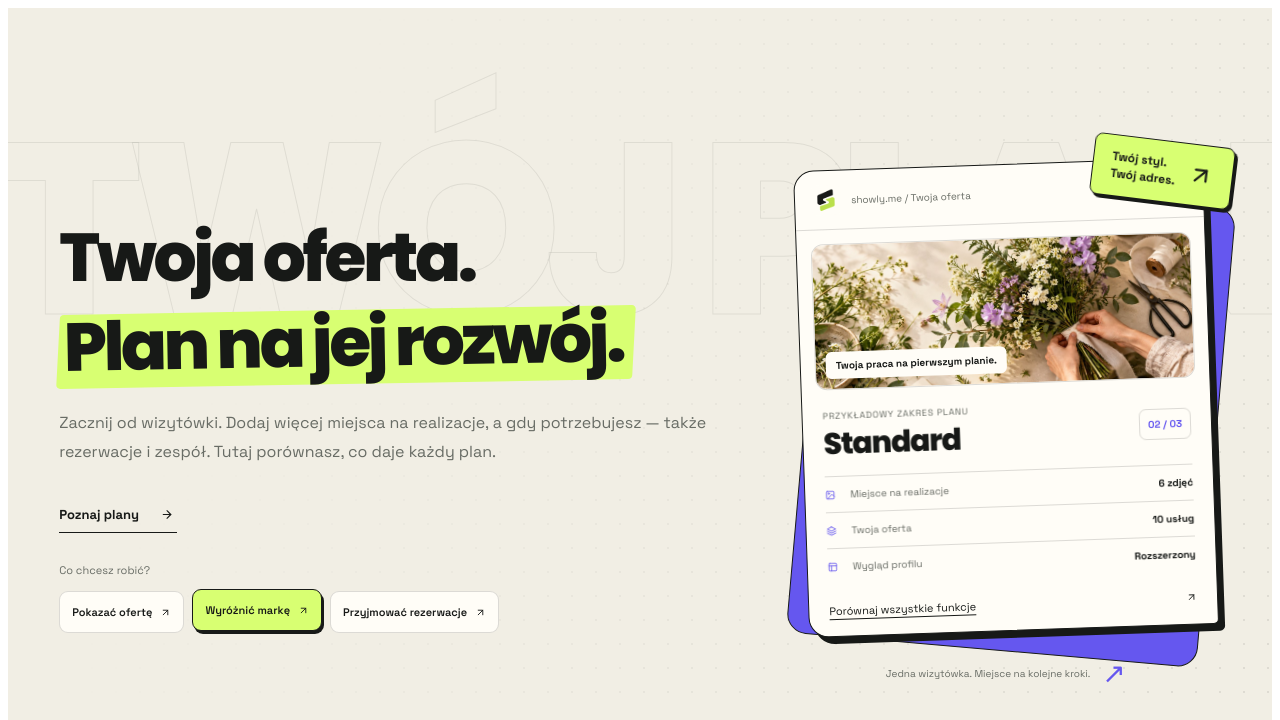
Test case: choosing a need updates the preview and matching card without changing prices
Click the button "Przyjmować rezerwacje": [414, 612] box [330,591,499,633]
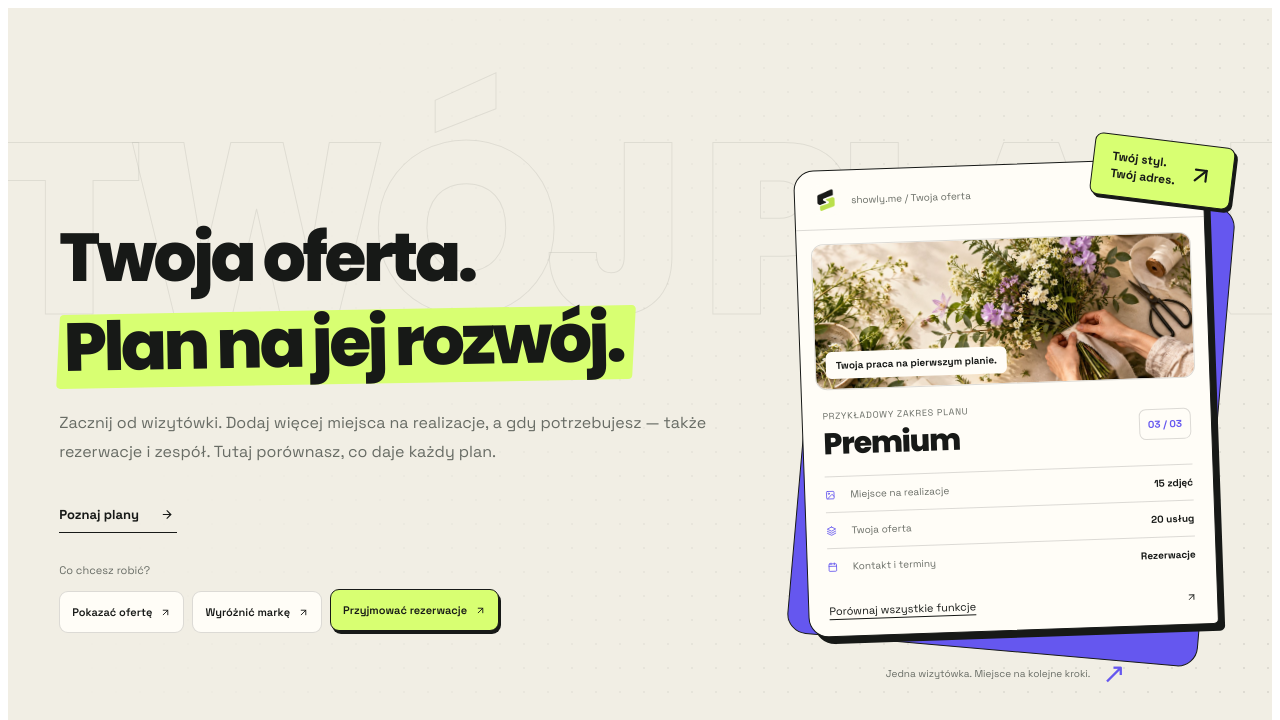
Check: the text "15 zdjęć" is shown, box [1154,476,1193,490]
Click the button "Pokazać ofertę": [122, 612] box [59,591,184,633]
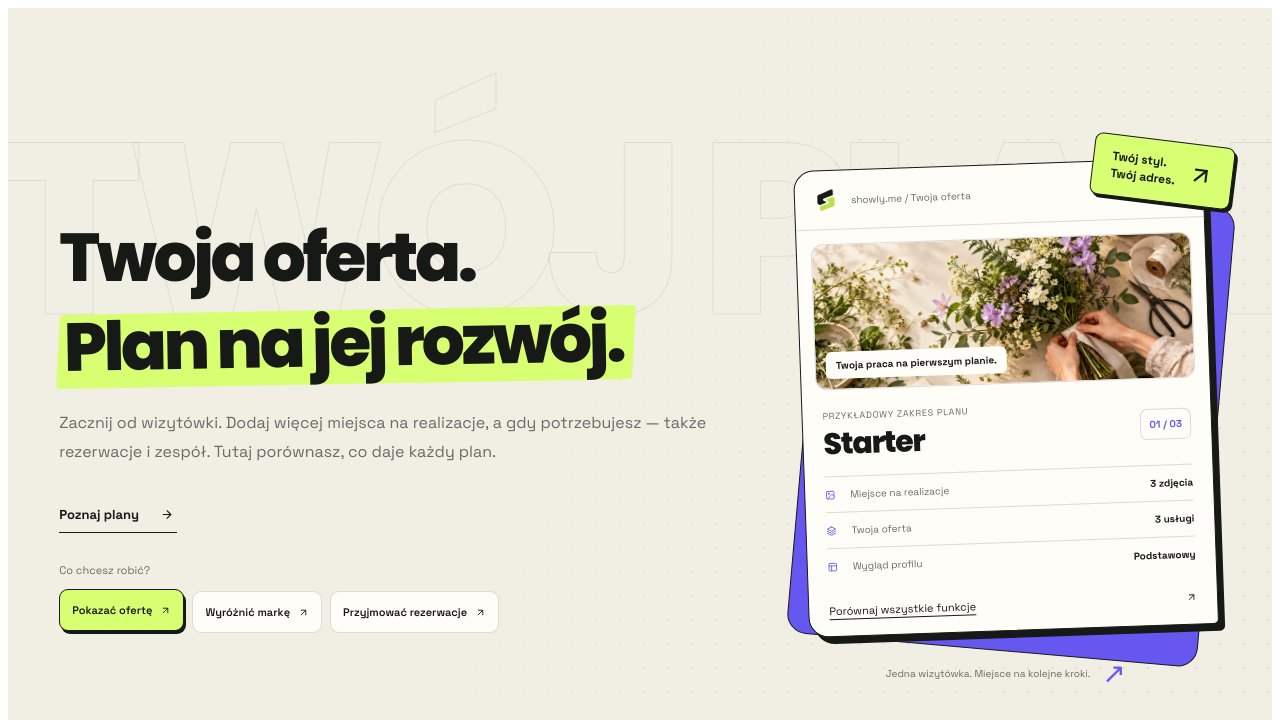
Check: the text "3 zdjęcia" is shown, box [1150,476,1193,490]
